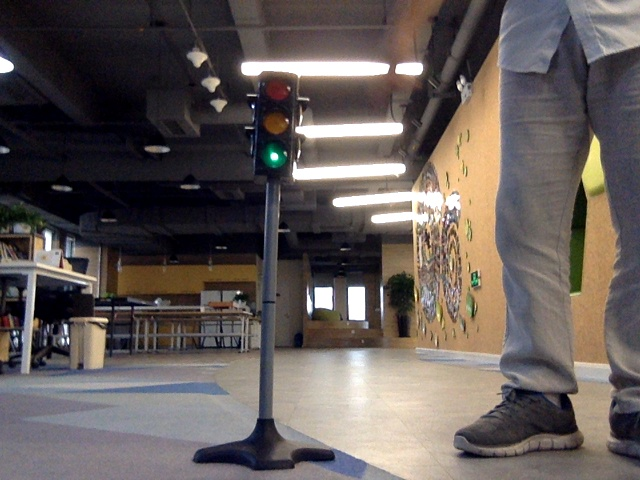green: (262, 70, 294, 175)
